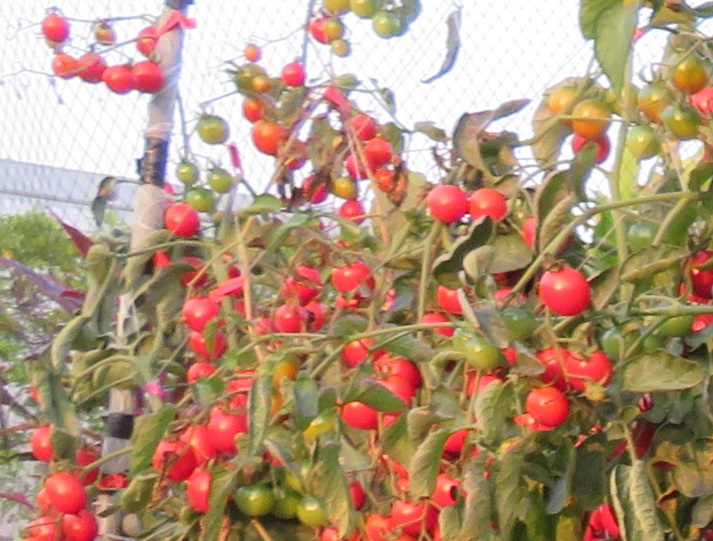green: (668, 50, 708, 105), (666, 96, 702, 143), (463, 341, 507, 374), (626, 122, 661, 163), (196, 112, 232, 147), (295, 496, 332, 530), (233, 486, 272, 515), (186, 186, 216, 212), (372, 11, 397, 42), (204, 168, 234, 193), (329, 176, 359, 200), (173, 162, 201, 186), (329, 42, 357, 60), (324, 21, 341, 39)
orange: (248, 121, 289, 154), (239, 94, 263, 124), (243, 38, 267, 61)
red: (539, 266, 594, 316), (425, 183, 473, 224), (38, 477, 92, 513), (528, 387, 569, 423), (180, 299, 223, 330), (473, 187, 510, 220), (214, 407, 246, 443), (102, 64, 136, 97), (136, 57, 167, 93), (166, 203, 201, 233), (272, 304, 308, 333), (188, 471, 214, 511), (39, 12, 69, 46), (62, 513, 98, 541), (31, 427, 57, 461), (365, 139, 393, 168), (282, 62, 309, 85)
